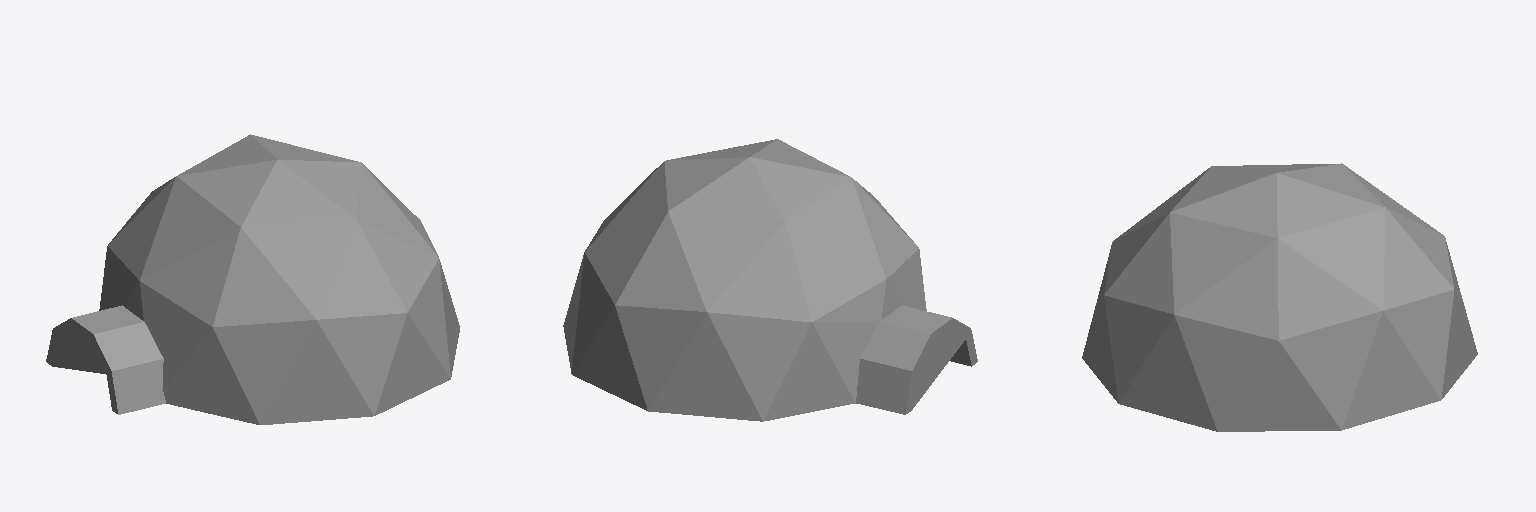
File: Igloo2.obj
3 renders of one model, left to right at view 1: azimuth 30°, elevation 25°; view 2: azimuth 150°, elevation 25°; view 3: azimuth 270°, elevation 25°, orthographic.
Visible parts, largest first — view 1: Cylinder.003_Cylinder.004; view 2: Cylinder.003_Cylinder.004; view 3: Cylinder.003_Cylinder.004.
Boxes of the visible parts, x1,y1,x2,y2 form: Cylinder.003_Cylinder.004: [46, 134, 459, 424]; Cylinder.003_Cylinder.004: [563, 139, 977, 421]; Cylinder.003_Cylinder.004: [1082, 163, 1477, 431].
Size of the model in its own units: 2.16 by 1.1 by 2.13.